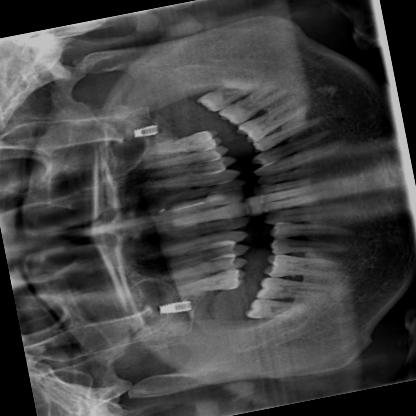Bicon: (150, 294, 198, 320), (129, 121, 161, 140)
